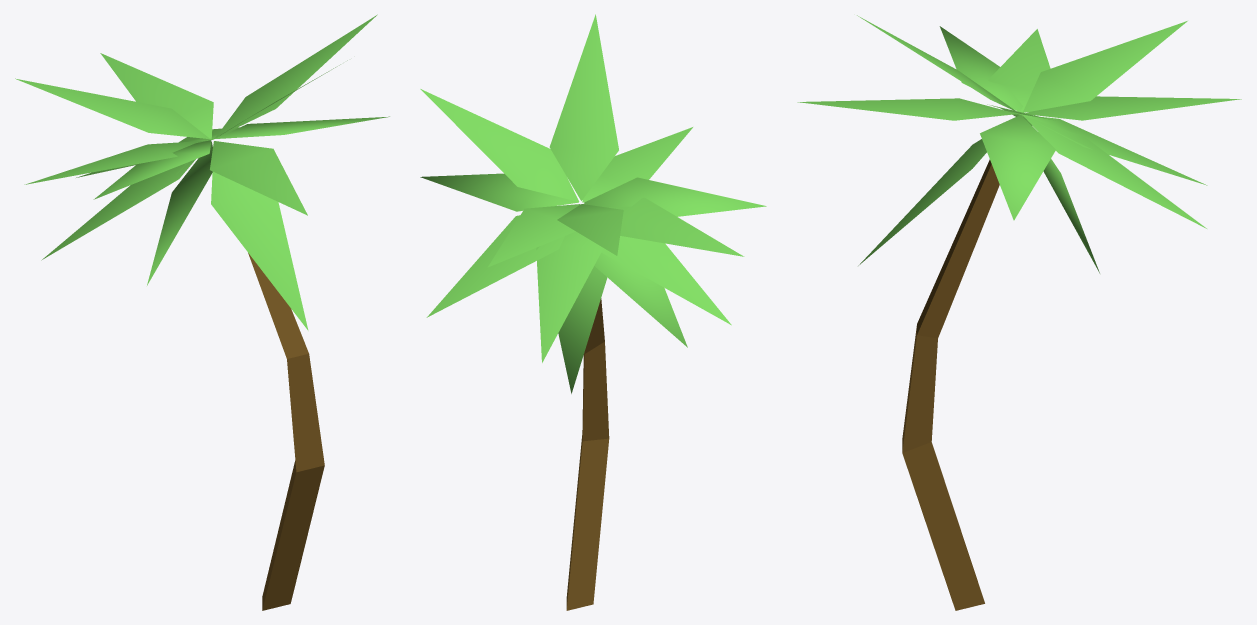
Rendered from palm tree coconuts LOD.fbx.
The picture shows the model from 3 angles, left to right: view 1: azimuth 30°, elevation 25°; view 2: azimuth 150°, elevation 25°; view 3: azimuth 270°, elevation 25°; orthographic projection. The views are drawn at different scales.
Visible parts, largest first — view 1: LODLeaves, LODTrunk; view 2: LODLeaves, LODTrunk; view 3: LODLeaves, LODTrunk.
Boxes of the visible parts, box(x1,y1,x2,y2) form: LODLeaves: box(15, 14, 389, 330); LODTrunk: box(248, 253, 324, 610); LODLeaves: box(420, 14, 766, 393); LODTrunk: box(566, 298, 609, 610); LODLeaves: box(797, 15, 1241, 273); LODTrunk: box(902, 159, 999, 610).
Size of the model in its own units: 300 by 466 by 311.
